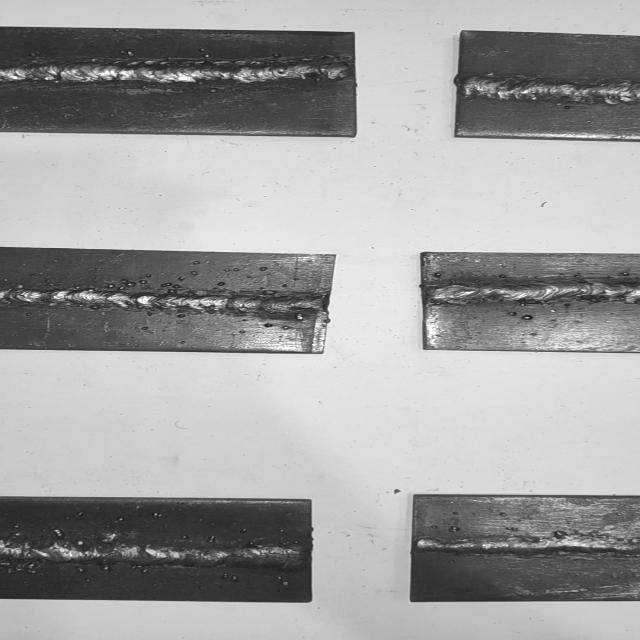Welding Line: (0, 286, 325, 320), (0, 59, 355, 83), (0, 544, 304, 568), (457, 72, 640, 106), (424, 278, 640, 306), (417, 535, 640, 556)
Workpiece: (0, 28, 362, 135), (0, 245, 338, 354), (0, 496, 316, 605), (408, 492, 640, 604), (417, 250, 640, 360), (452, 28, 640, 144)
